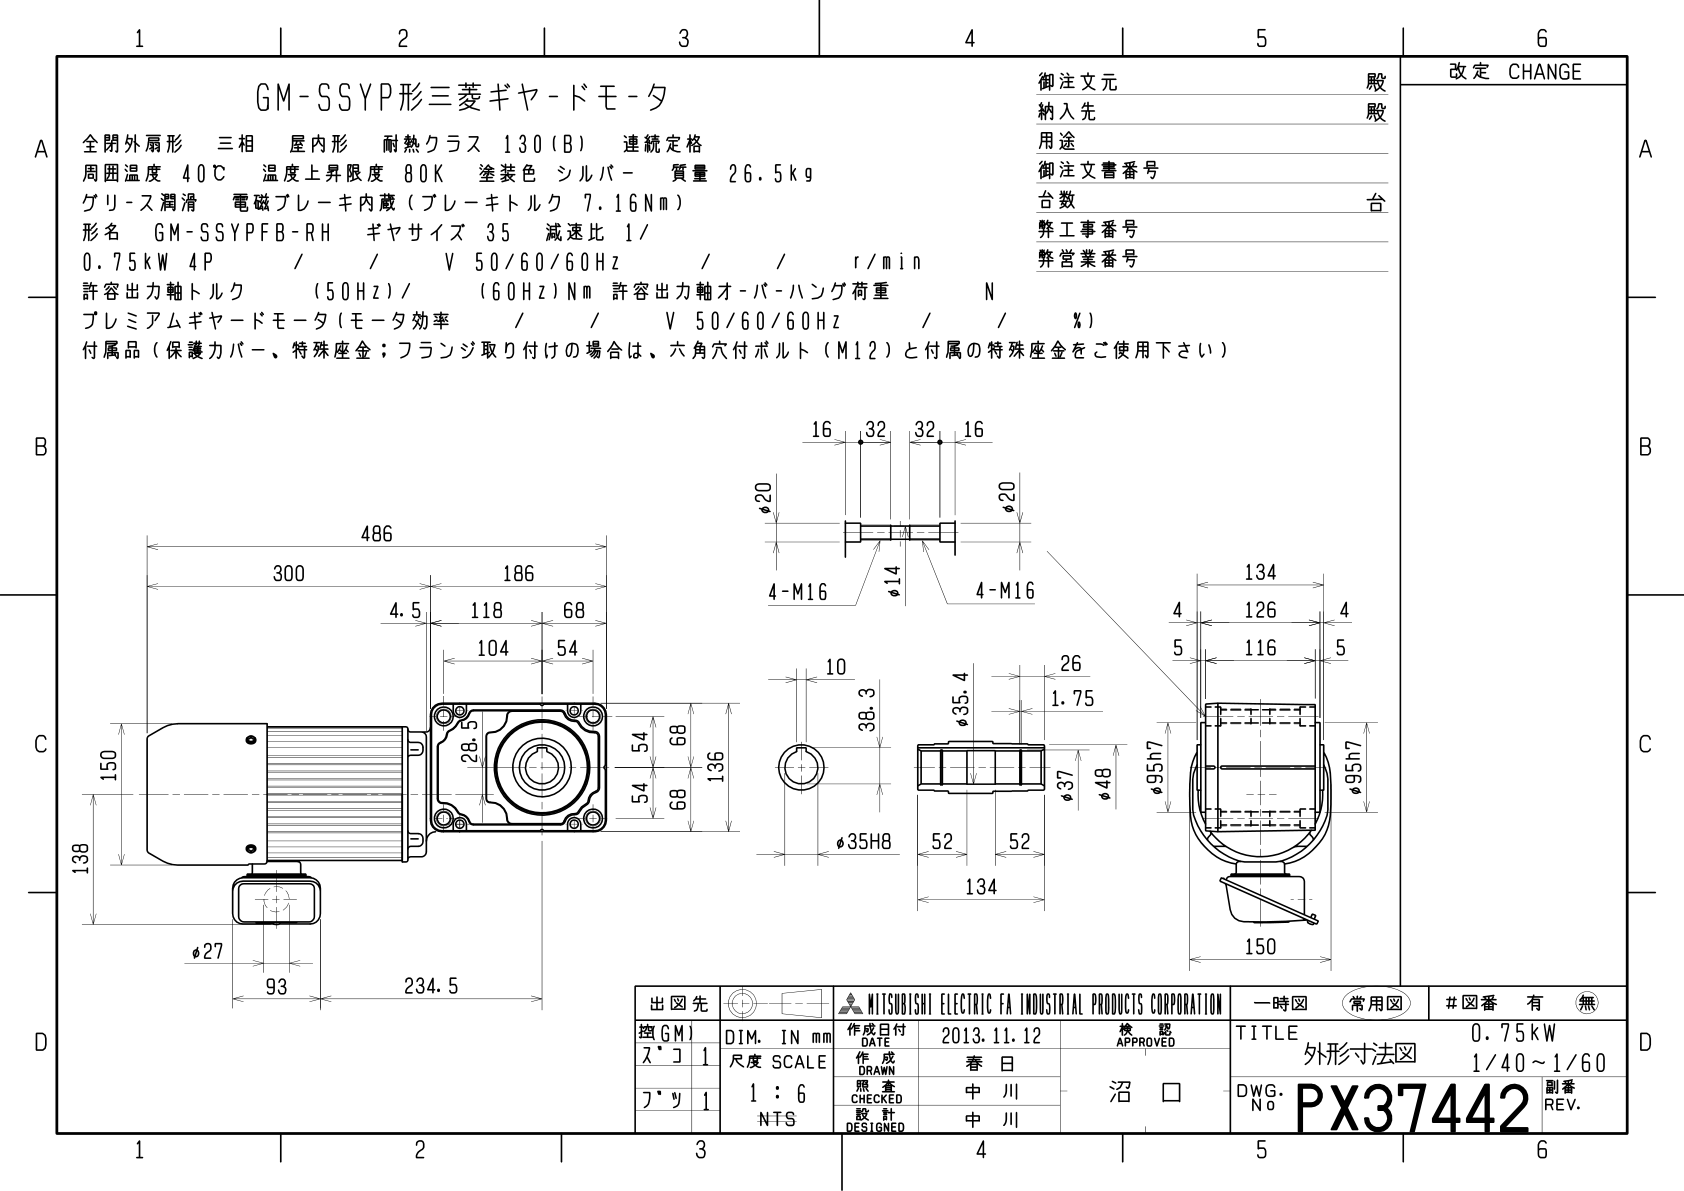GM_SSYP_屋内_三相: (63, 402, 1385, 980)
